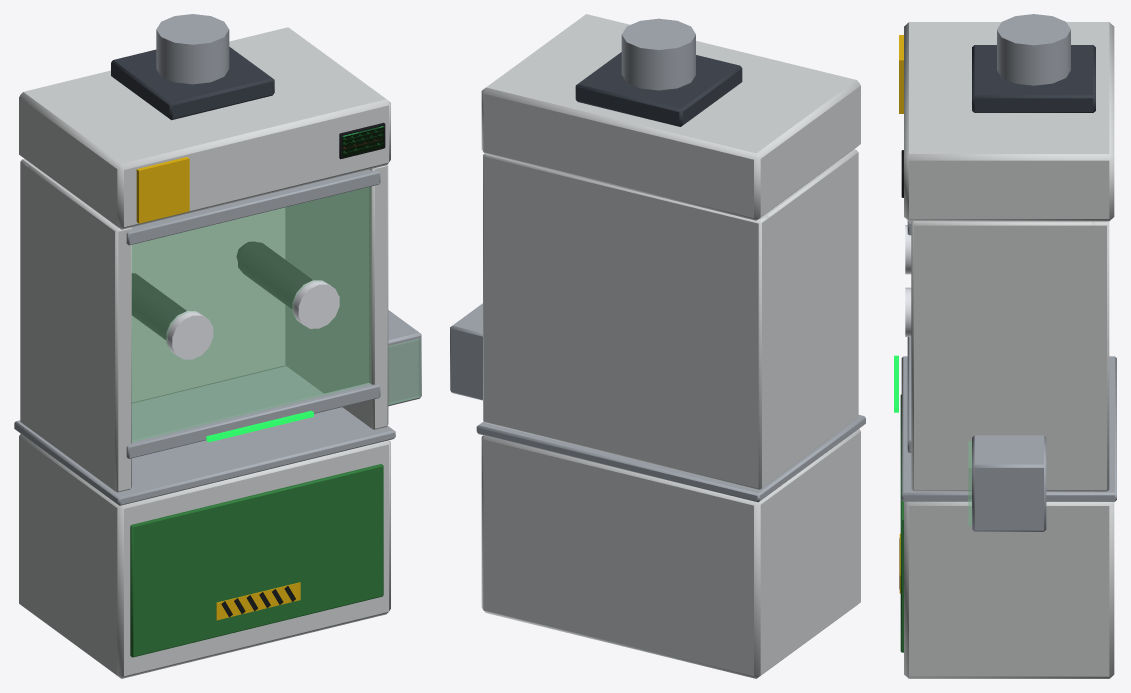
Rendered from specimen_biocontainment_cabinet.glb.
The picture shows the model from 3 angles, left to right: view 1: azimuth 30°, elevation 25°; view 2: azimuth 150°, elevation 25°; view 3: azimuth 270°, elevation 25°; orthographic projection. The views are drawn at different scales.
Visible parts, largest first — view 1: specimen_biocontainment_cabinet; view 2: specimen_biocontainment_cabinet; view 3: specimen_biocontainment_cabinet.
Boxes of the visible parts, box(x1,y1,x2,y2) form: specimen_biocontainment_cabinet: box(14, 14, 421, 678); specimen_biocontainment_cabinet: box(450, 14, 865, 678); specimen_biocontainment_cabinet: box(894, 14, 1116, 678).
Size of the model in its own units: 1.61 by 2.6 by 0.9.
Materials: 11 (1 with a texture image).
